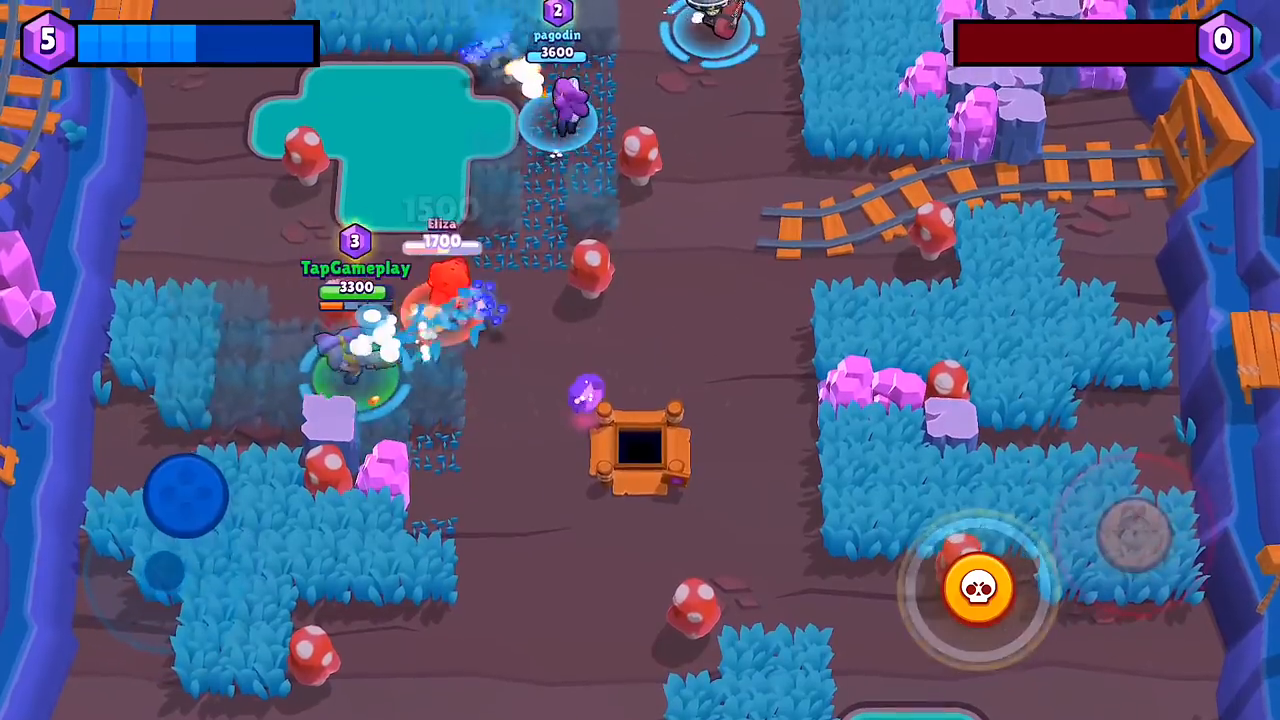move_stick: (143, 454, 229, 526)
red: (386, 225, 496, 345)
